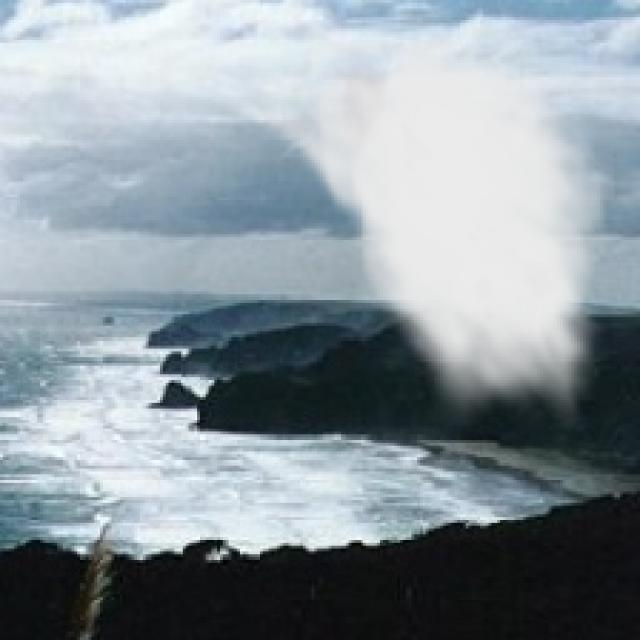smoke: (237, 17, 617, 432)
